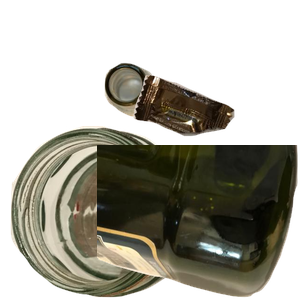glass: (10, 126, 220, 300)
metal: (102, 60, 252, 169)
plastic: (97, 145, 300, 300)
trash: (131, 73, 300, 202)
